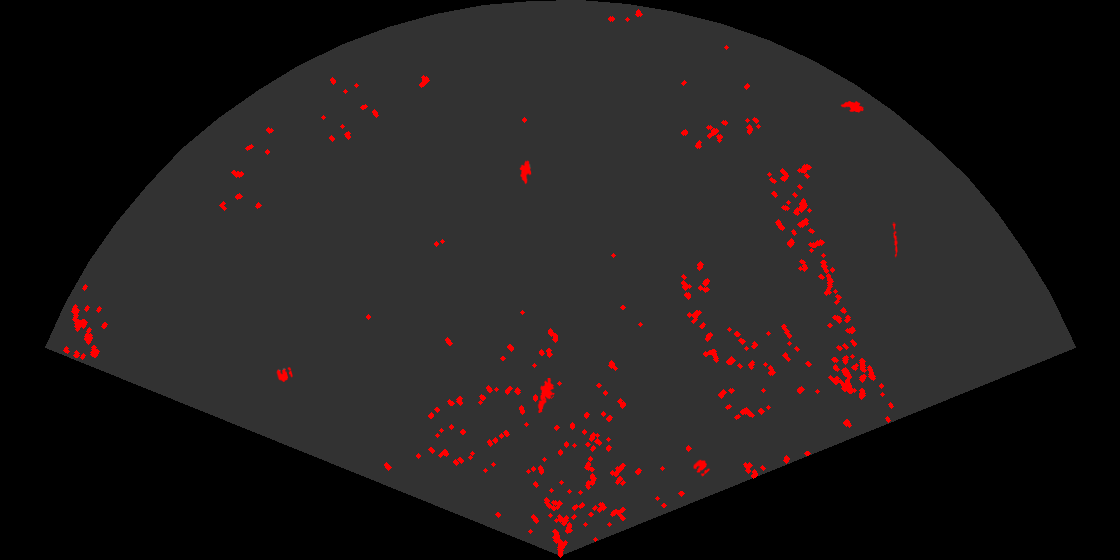AUV: (839, 99, 865, 115), (518, 159, 533, 185)
ball: (692, 458, 712, 478), (275, 365, 294, 384)
chain: (890, 222, 899, 258)
frogman: (536, 378, 556, 413)
